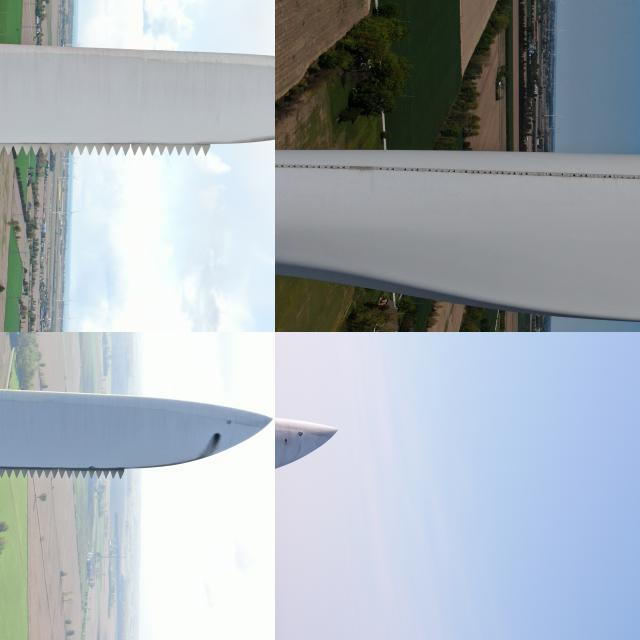damage: (199, 432, 225, 460), (520, 166, 544, 177), (347, 164, 379, 172), (398, 164, 424, 173), (280, 436, 290, 444)
